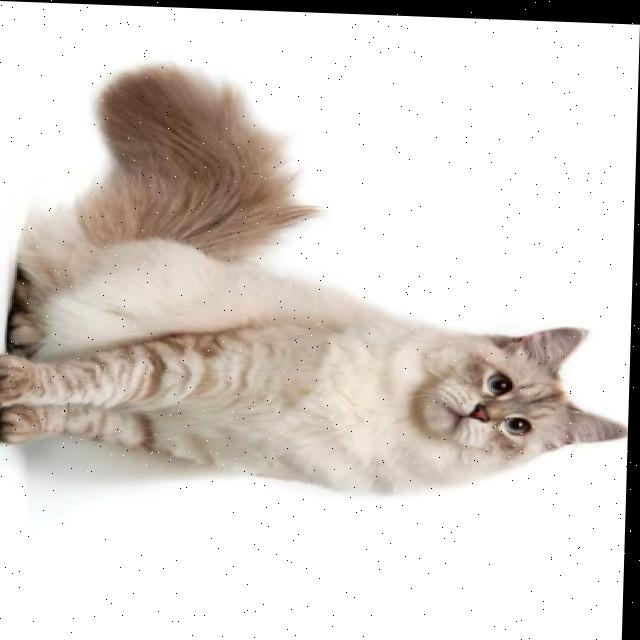Neva Masquerade: (0, 52, 639, 506)
